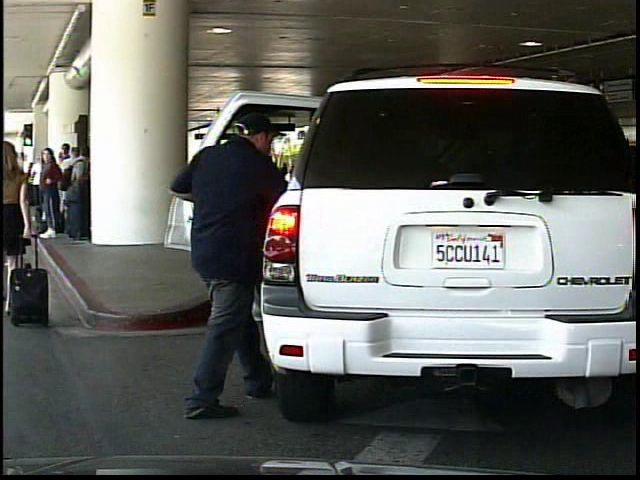person: (171, 97, 283, 438)
